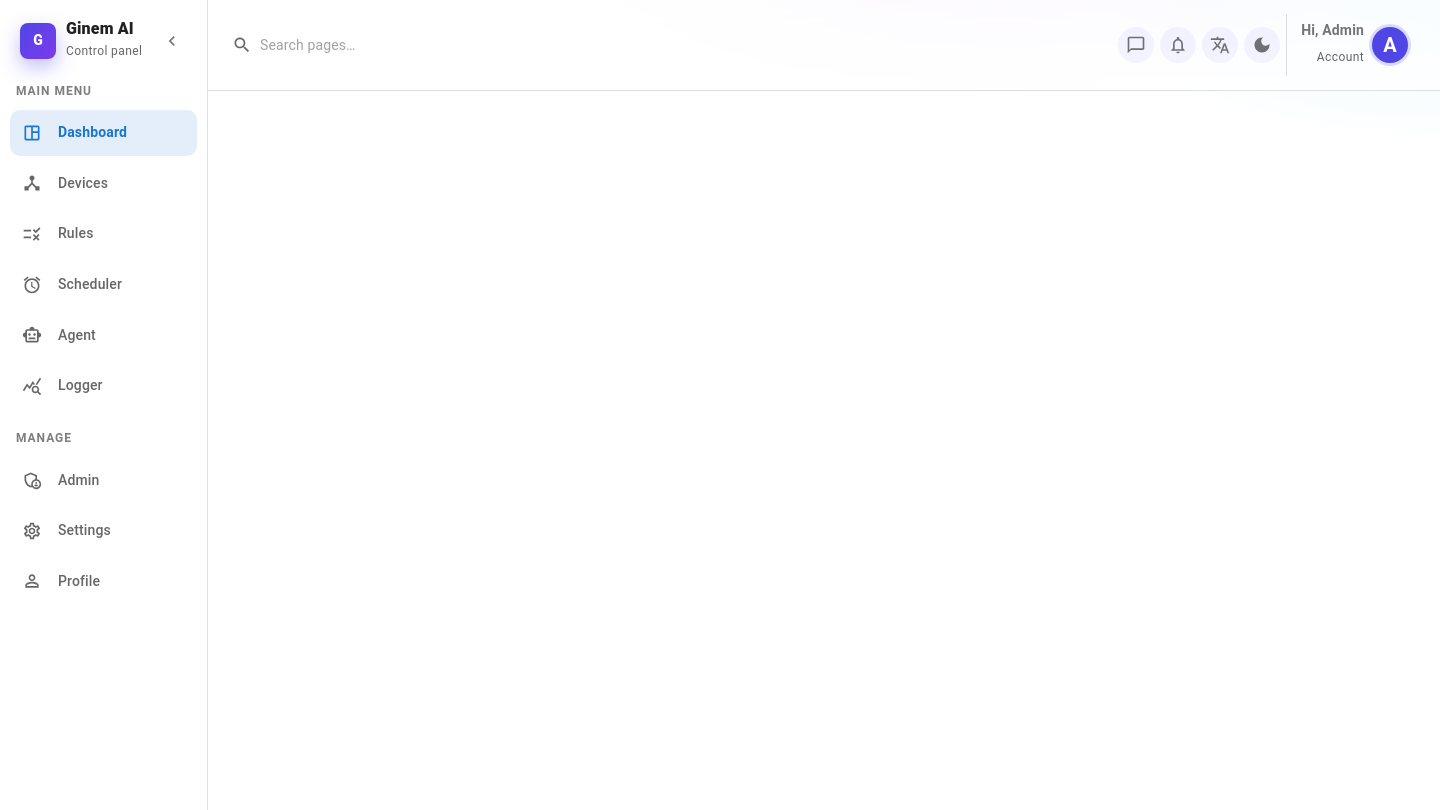
Scenario: AppLayout sidebar › opens again from the arrow on the rail
Click the button named "Close menu".
click(172, 41)  # box x1=157 y1=26 x2=187 y2=56
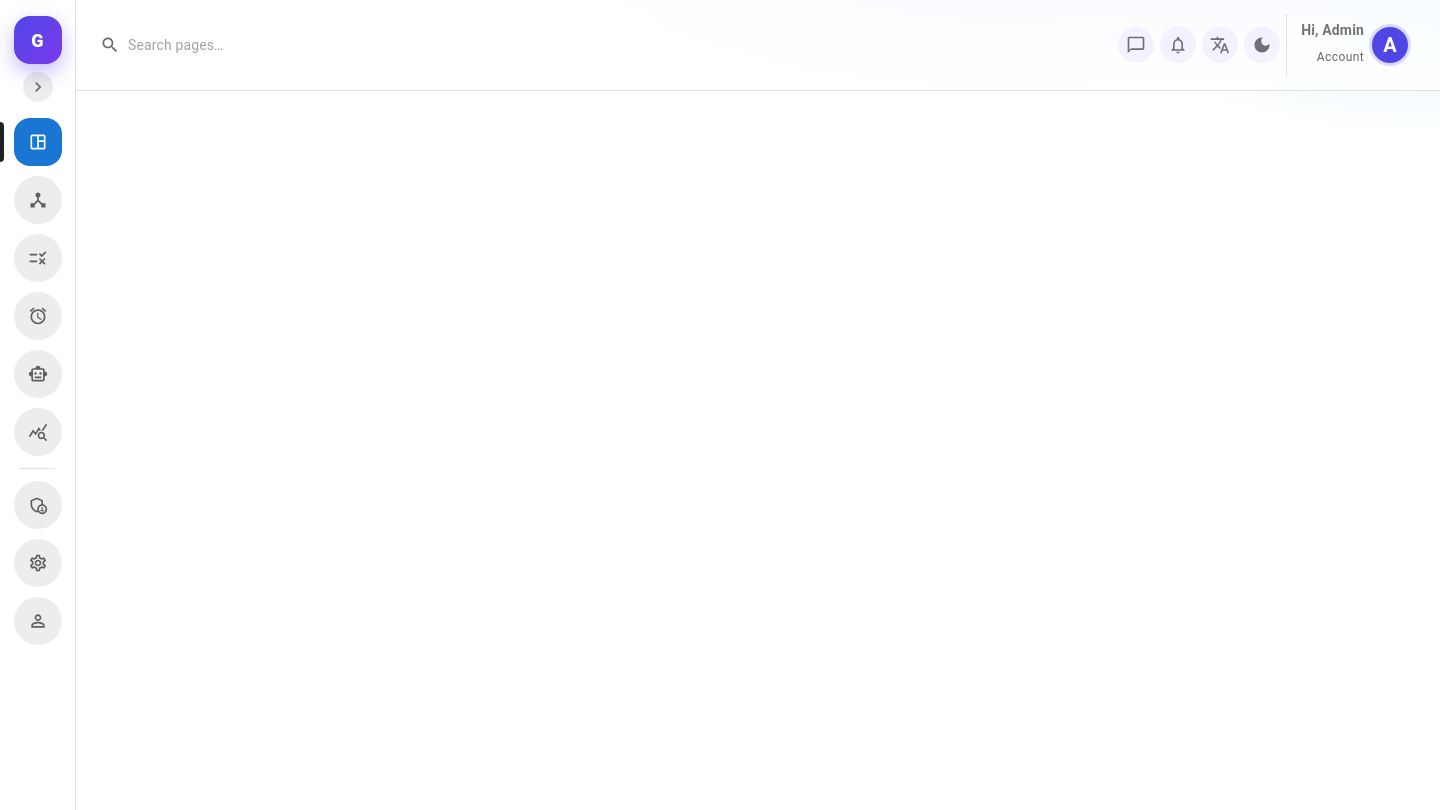
Click the button named "Open menu".
click(38, 87)  # box x1=22 y1=72 x2=52 y2=102
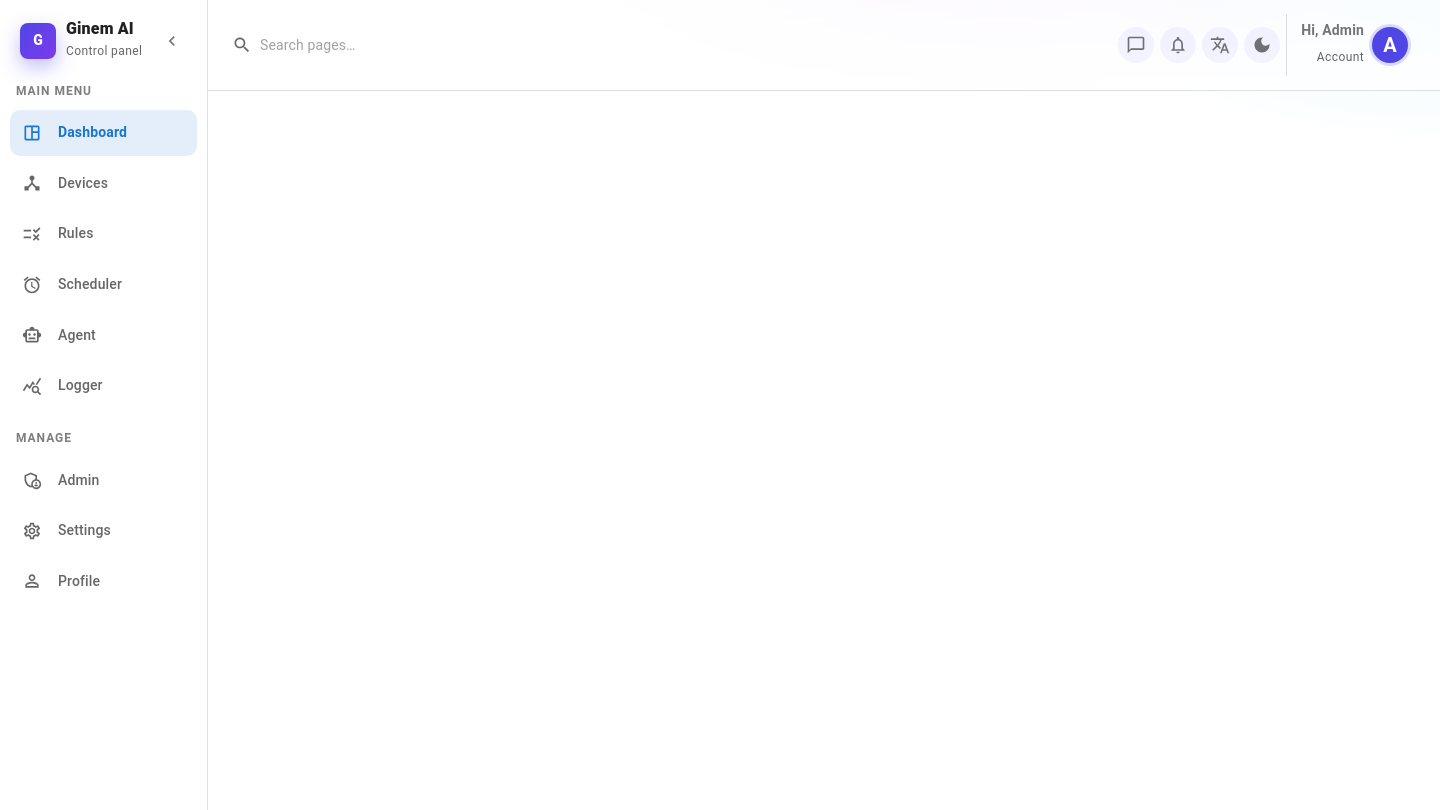
Now the text "Agent" is shown, box x1=58 y1=327 x2=96 y2=343
